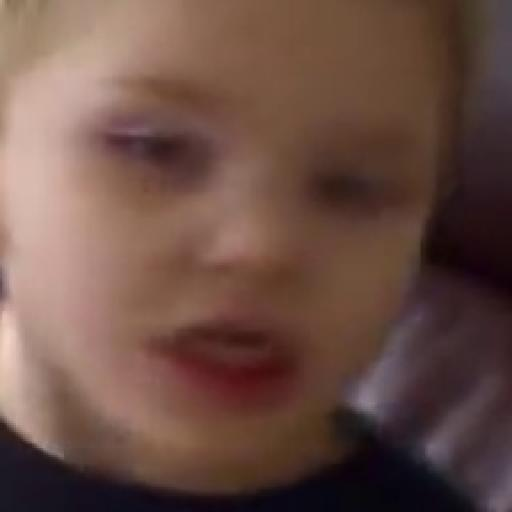Autism: (8, 19, 448, 495)
